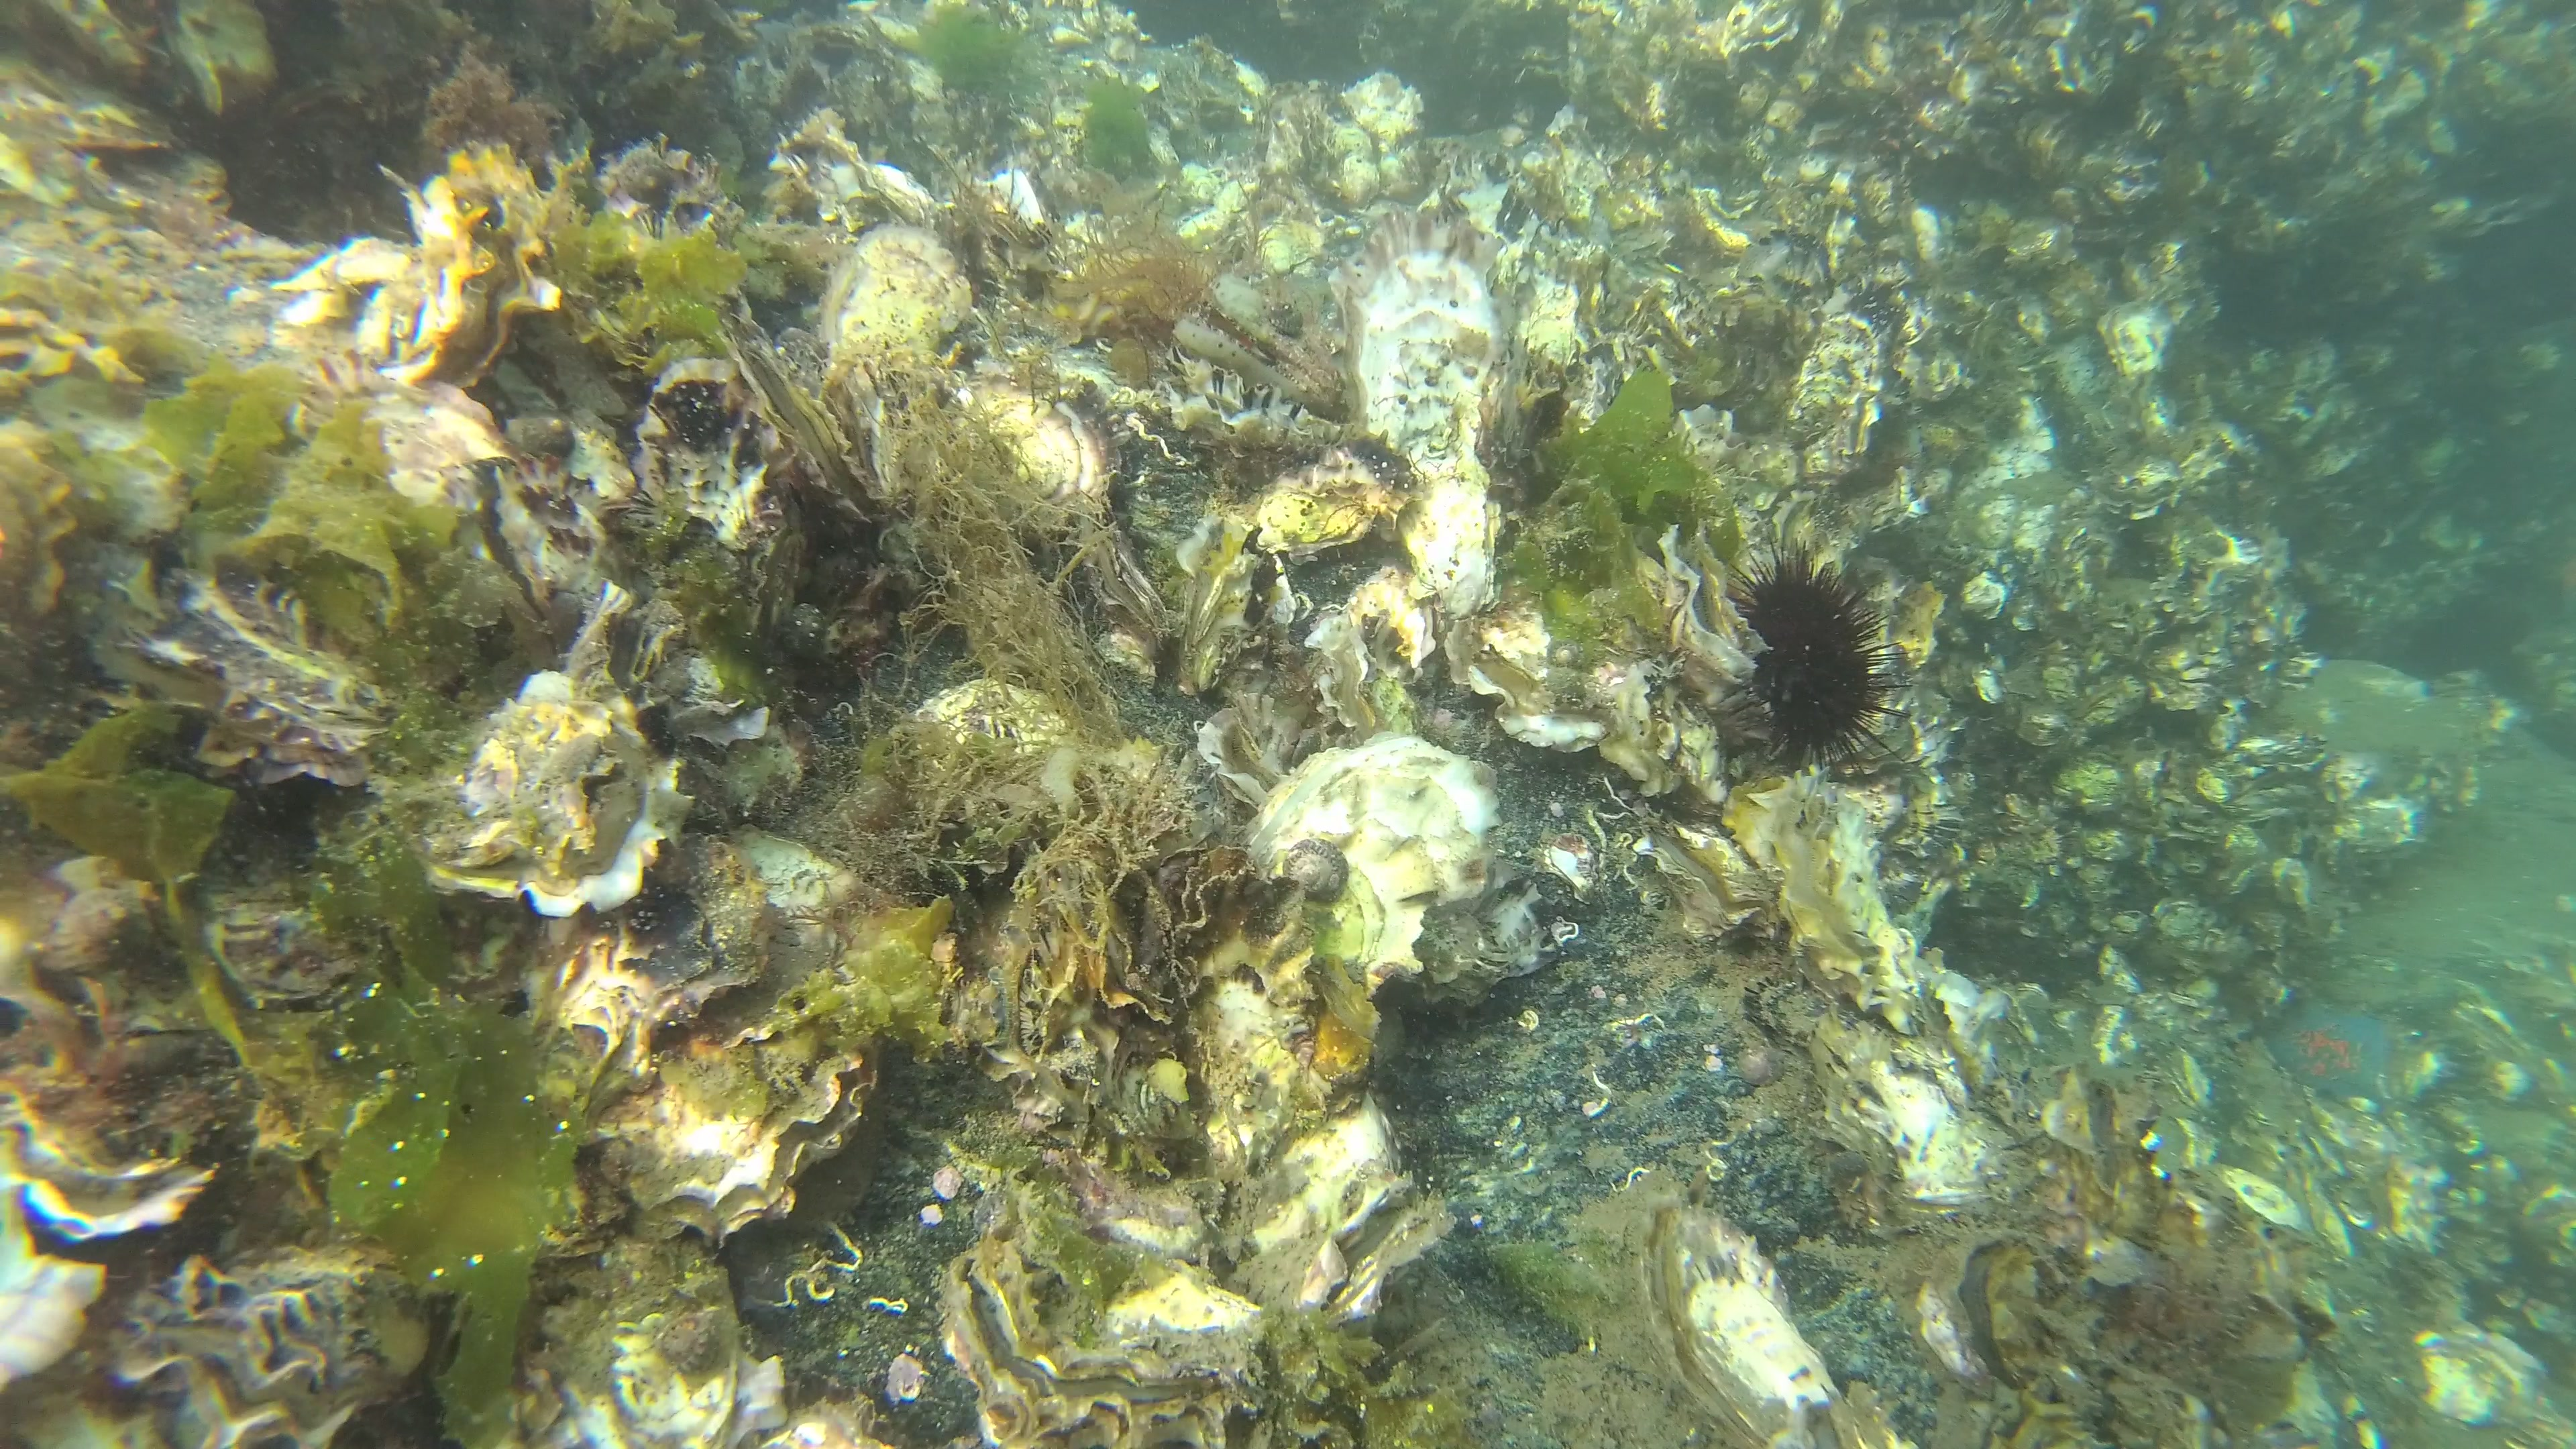echinus: (1723, 534, 1904, 770)
starfish: (2268, 994, 2403, 1099)
